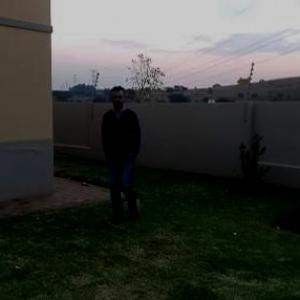follow: (97, 85, 142, 214)
